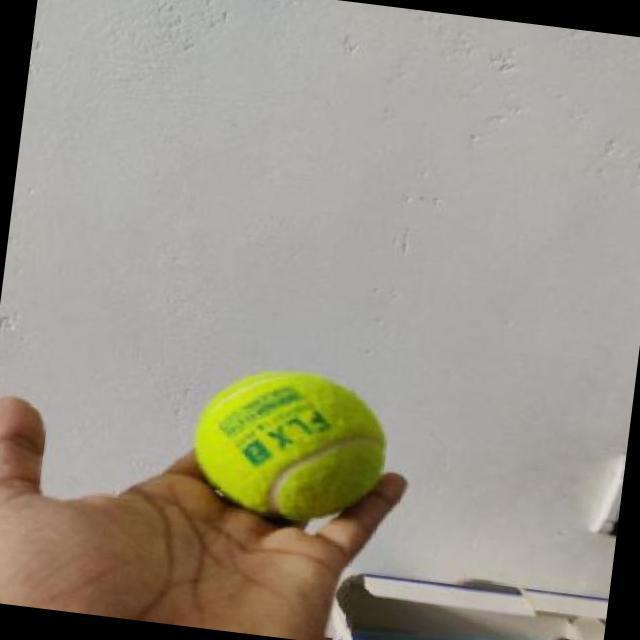-: (136, 346, 451, 547)
